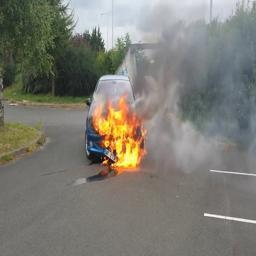fire: (92, 97, 148, 167)
